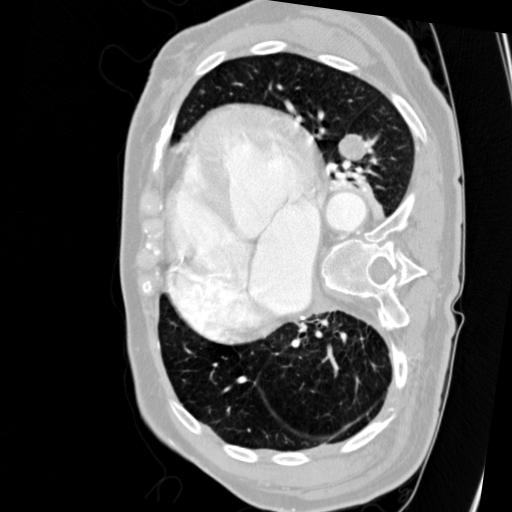nodule: (333, 130, 371, 168)
